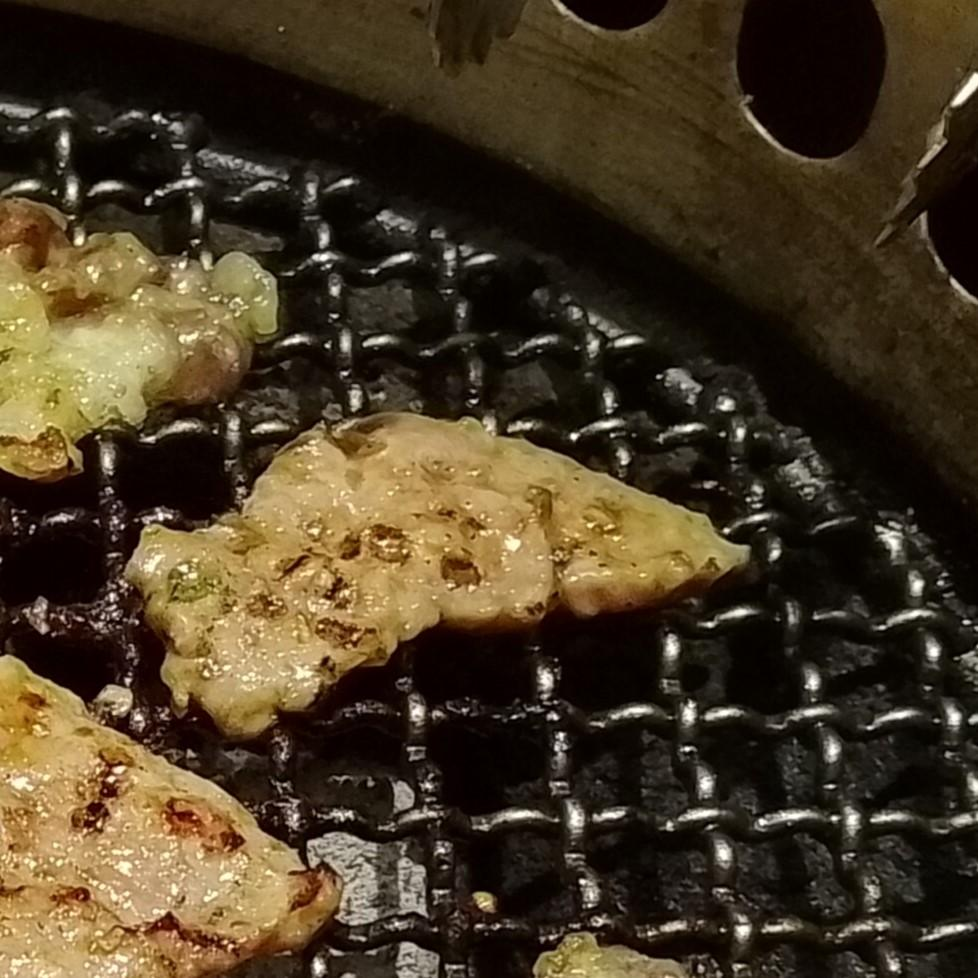Overcooked: (134, 413, 748, 743), (0, 660, 340, 977), (0, 195, 276, 480)
